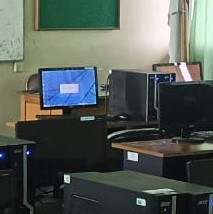monitor: (108, 80, 213, 144), (158, 80, 213, 135), (38, 66, 100, 110), (34, 0, 121, 31)
